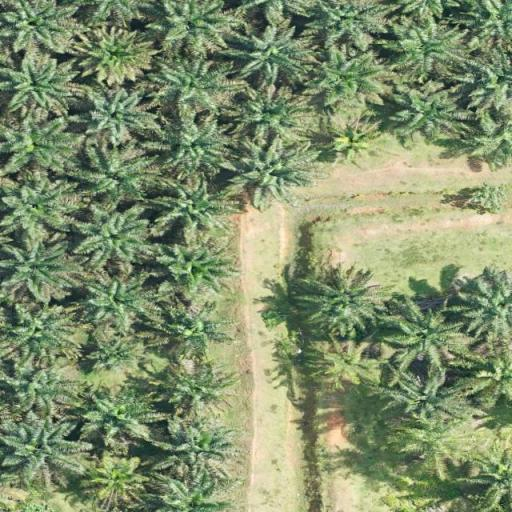Ganoderma: (319, 344, 376, 382), (91, 460, 141, 498), (330, 124, 382, 158)
